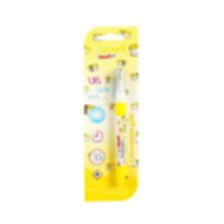book: (81, 22, 141, 204)
correction_fluid: (110, 66, 129, 185)
